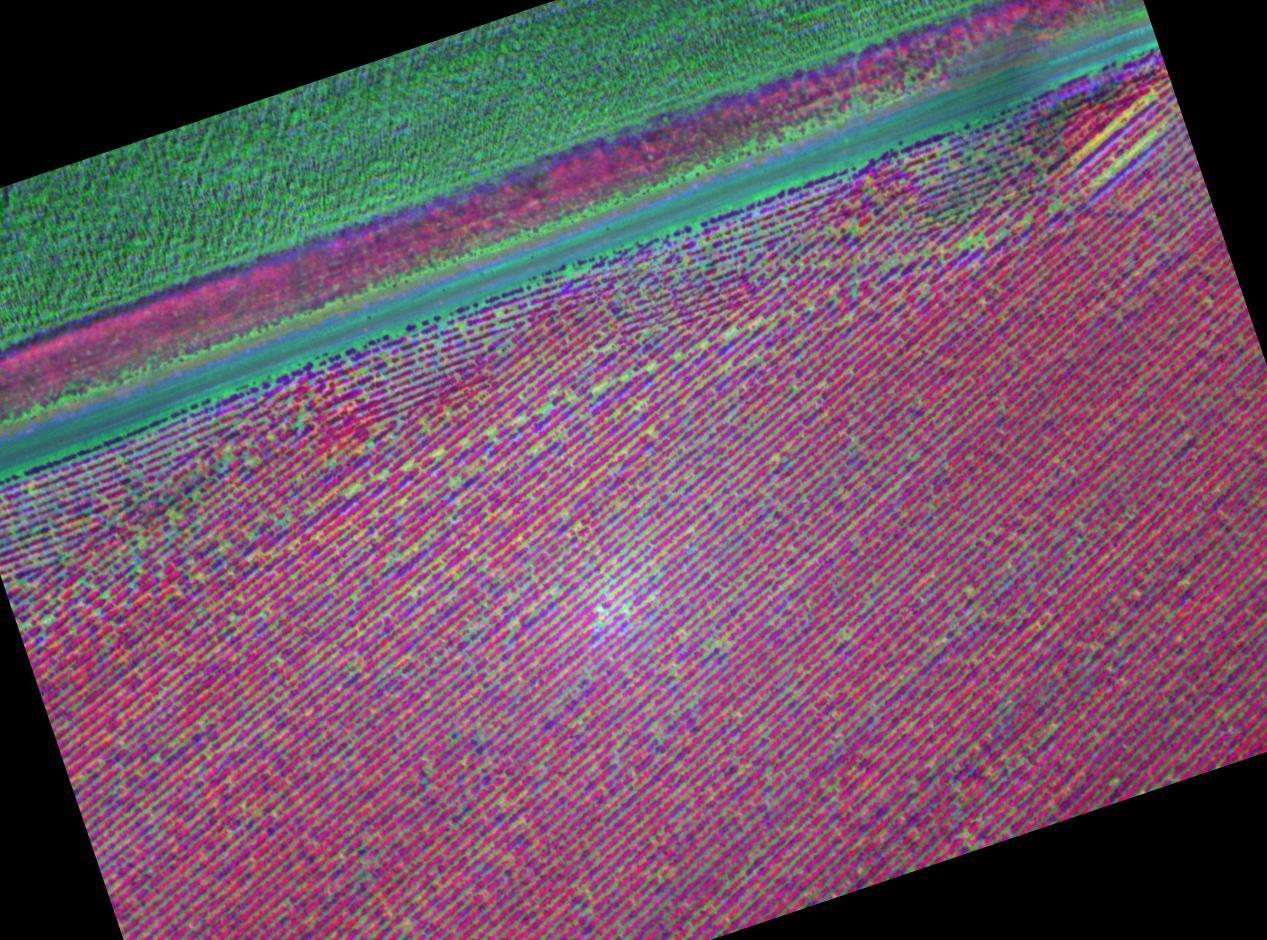dc: (853, 228, 858, 234), (651, 365, 656, 370), (677, 356, 681, 360), (597, 607, 601, 610), (500, 665, 503, 669), (155, 755, 158, 758), (549, 589, 551, 591)
